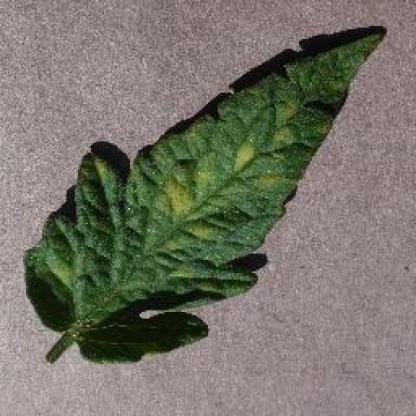Tomato_Leaf_Mold: (28, 33, 380, 313)
